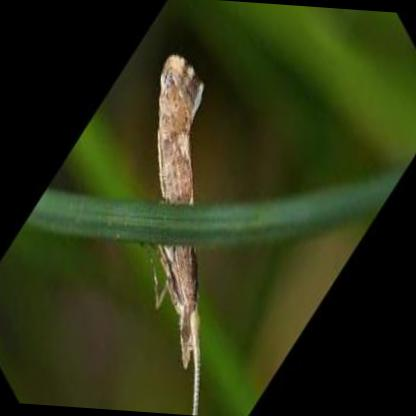plutella: (155, 53, 207, 414)
